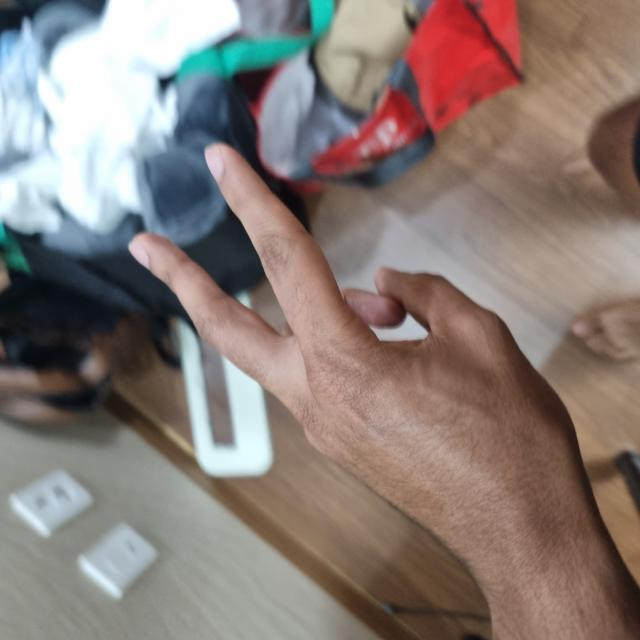Scissors: (63, 137, 493, 639)
